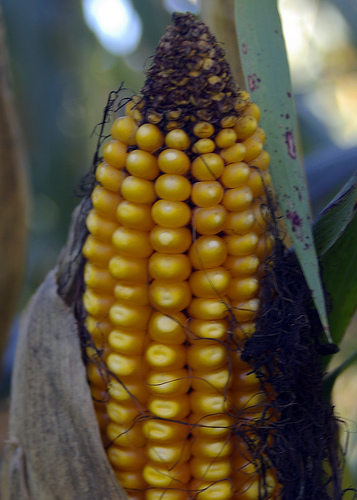corn: (6, 15, 355, 498)
